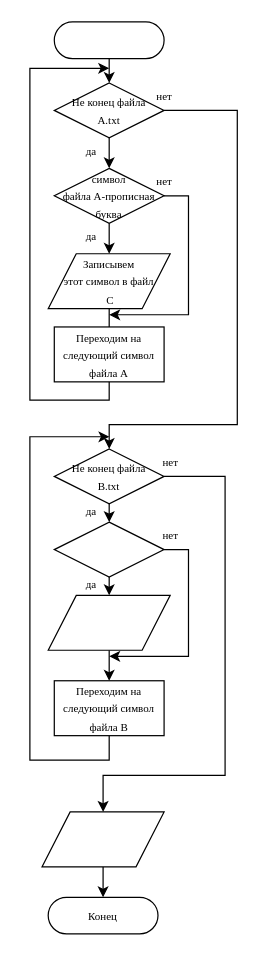
This 268x955 diagram has some shape labels left out. The centre of each missing label's shape, as x and y in pixels:
Выводим содержимое всех трех файлов: the point at 102,839
Добавляем этот символ в конец файла А: the point at 108,622
Начало: the point at 108,40
символ файла B-цифра .: the point at 108,549
